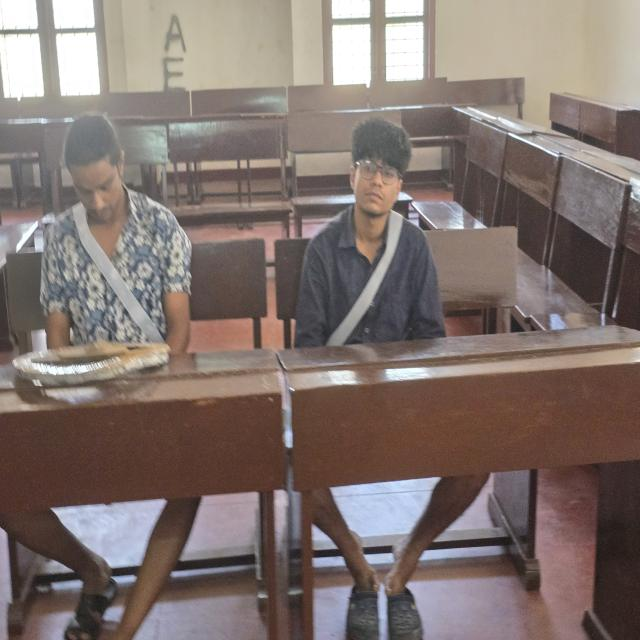seatbelt: (70, 195, 167, 357), (322, 208, 412, 351)
